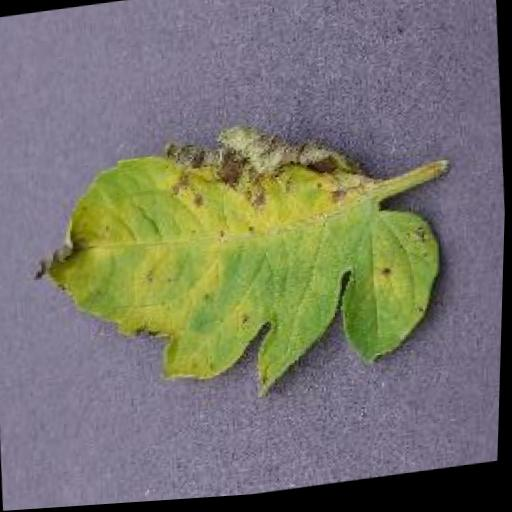Septoria: (21, 105, 450, 433)
